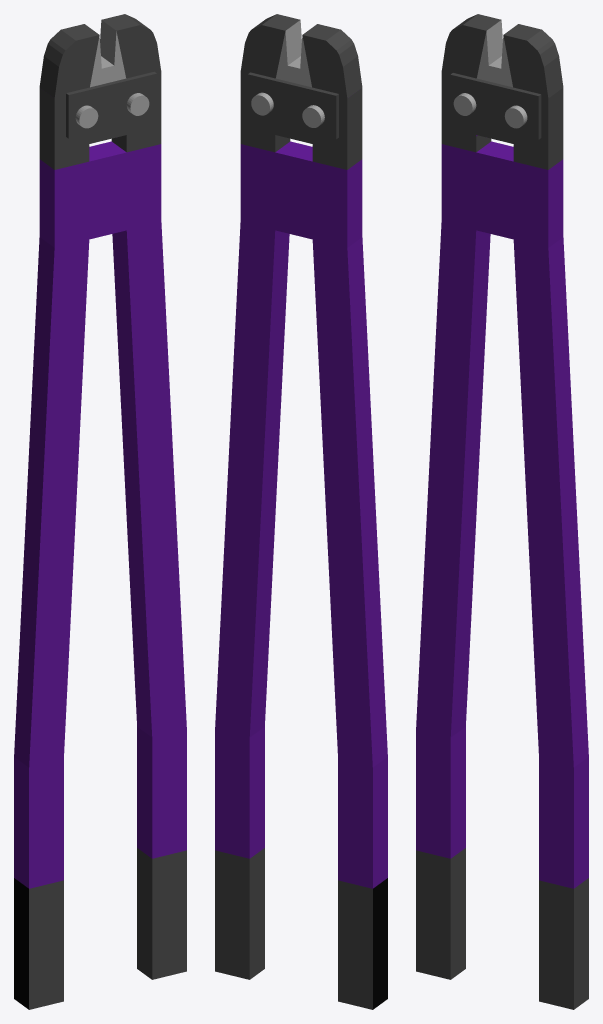
Rendered from Alicate.fbx.
3 views of the same model, side by side, from view 1: azimuth 30°, elevation 25°; view 2: azimuth 150°, elevation 25°; view 3: azimuth 330°, elevation 25° (orthographic).
Visible parts, largest first — view 1: Corpo; view 2: Corpo; view 3: Corpo.
Part boxes in pixels (x1,y1,x2,y2): Corpo: (14, 14, 186, 1009); Corpo: (215, 14, 387, 1009); Corpo: (416, 14, 588, 1009).
Size of the model in its own units: 136 by 791 by 41.44.
